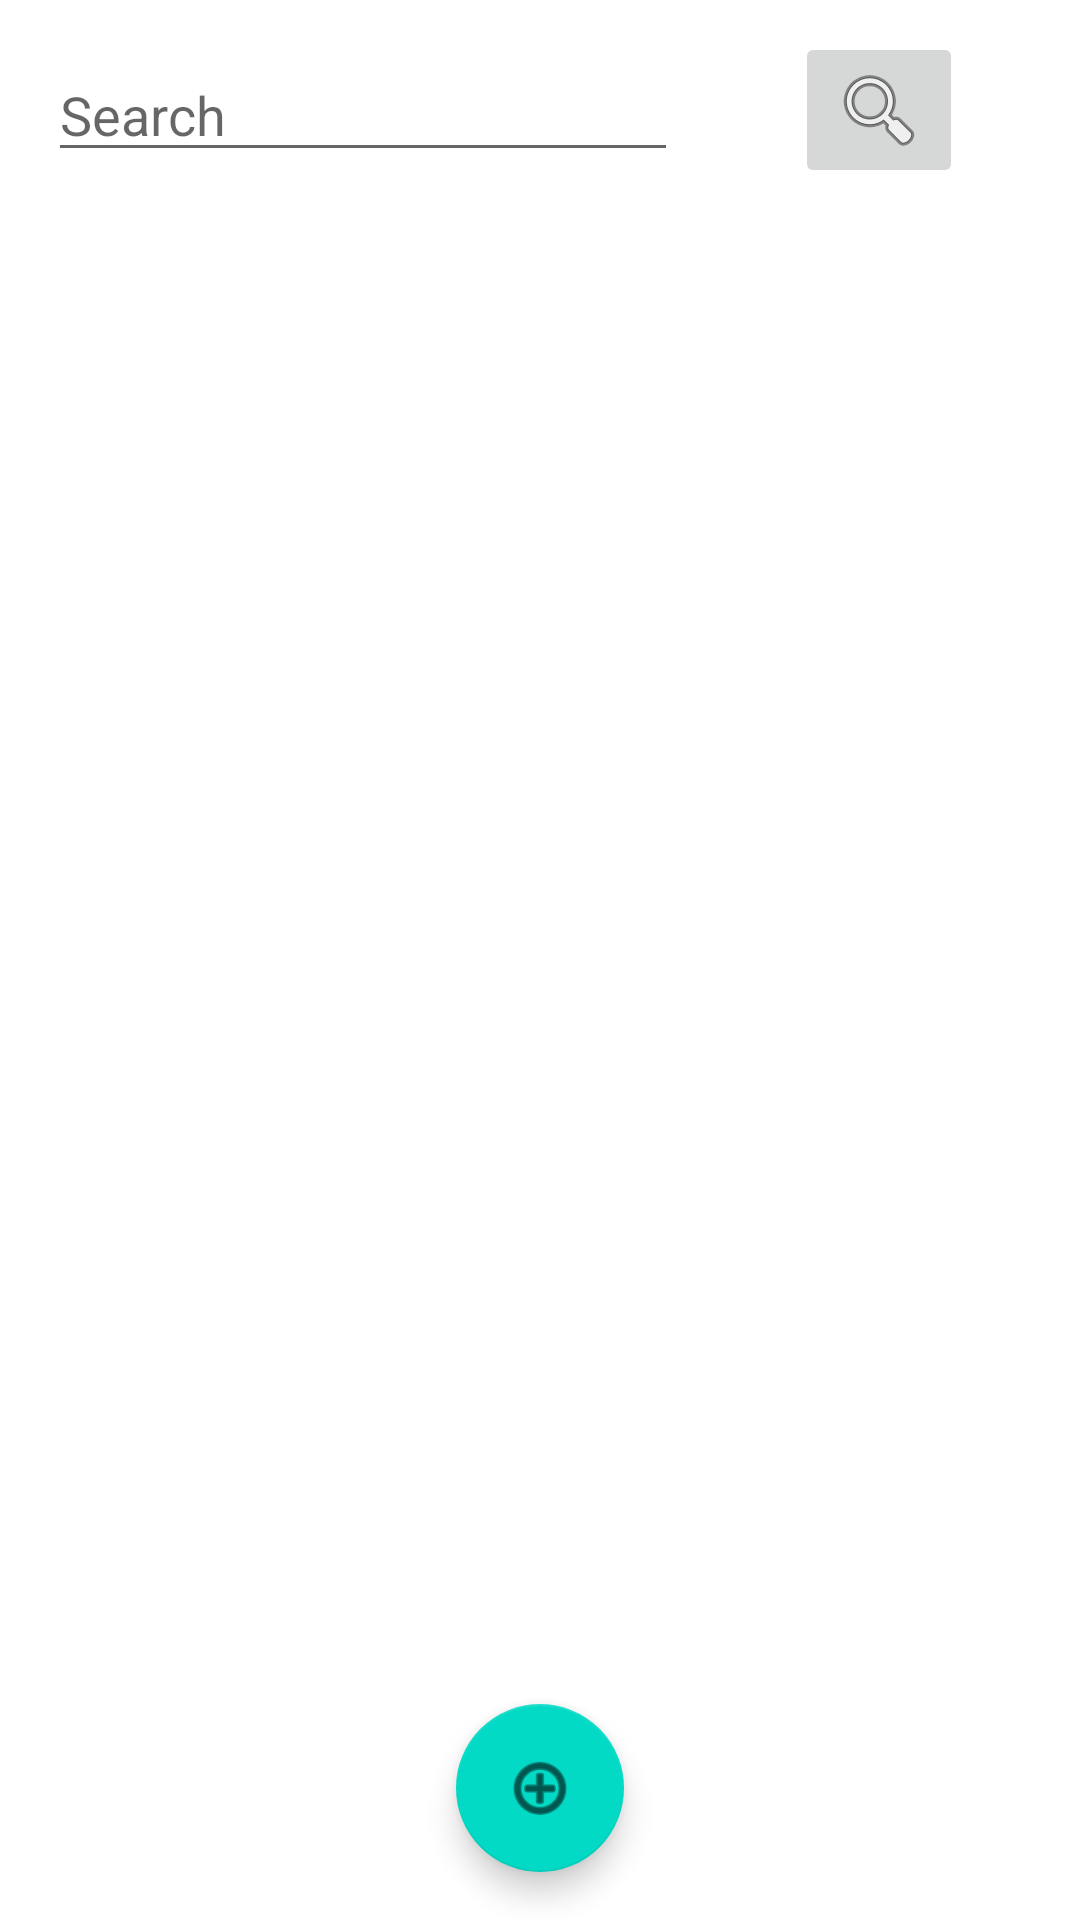

Locate icon controls on the screen. Image size 1080 x 1920, boxes as (x1, y1, x2, y2).
add: (456, 1704, 624, 1872)
